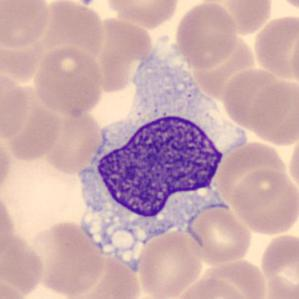Monocyte: (71, 98, 231, 263)
Platelets: (76, 0, 97, 7)
RBC: (26, 218, 107, 297), (30, 44, 106, 117), (135, 225, 205, 299), (219, 66, 294, 134), (229, 168, 298, 237), (82, 21, 153, 87), (30, 1, 102, 64), (183, 203, 254, 265), (174, 1, 238, 68), (41, 107, 104, 175), (191, 31, 256, 96), (7, 85, 59, 161), (246, 77, 299, 146), (70, 251, 141, 299), (251, 12, 299, 82), (196, 255, 269, 299), (0, 229, 47, 296), (257, 231, 298, 298), (201, 0, 275, 36), (0, 0, 52, 49), (0, 75, 33, 143), (103, 0, 181, 28), (173, 275, 248, 299), (0, 132, 14, 198), (0, 275, 31, 299), (274, 0, 298, 16)
